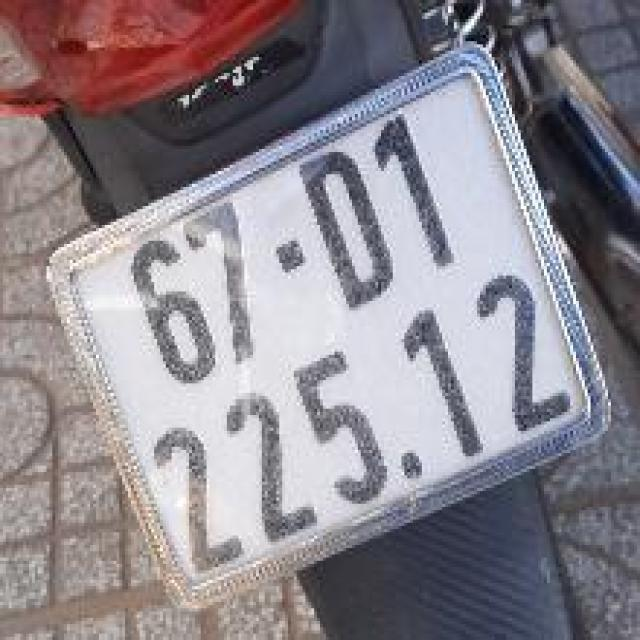1: (359, 97, 483, 287), (384, 294, 503, 479)
2: (460, 257, 588, 452), (209, 377, 340, 561), (140, 405, 264, 593)
5: (285, 338, 404, 523)
6: (109, 227, 230, 400)
7: (167, 192, 278, 380)
D: (291, 139, 412, 324)
